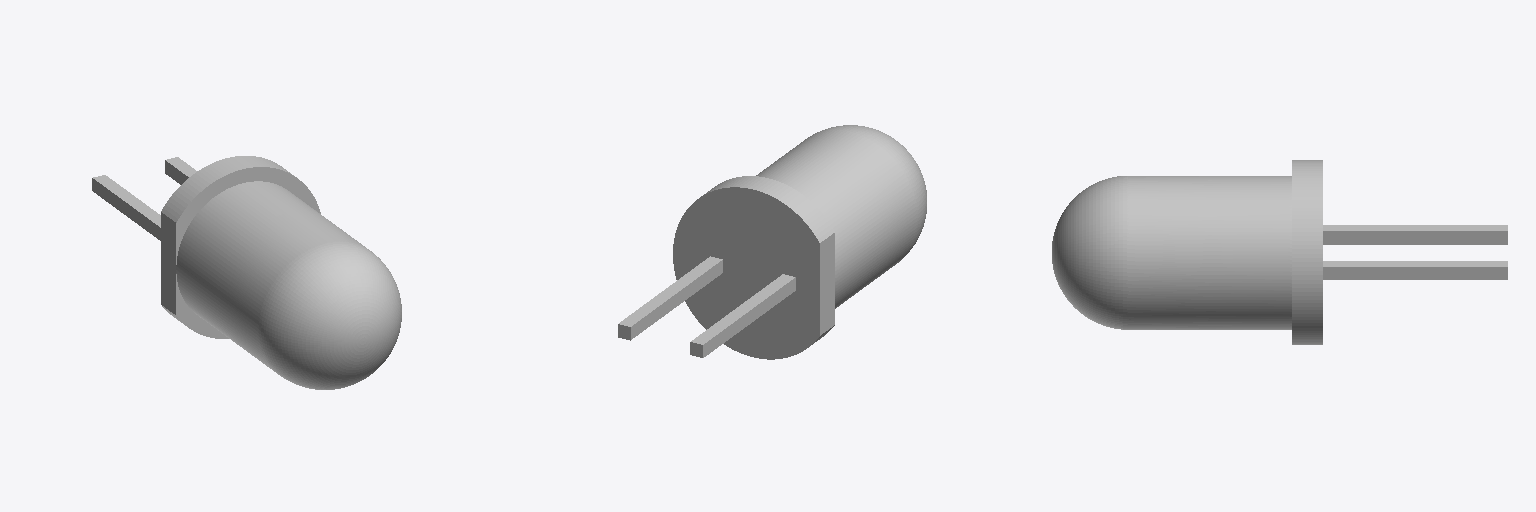
The model's file is LED5MM_SHORT.obj.
The picture shows the model from 3 angles: view 1: azimuth 30°, elevation 25°; view 2: azimuth 150°, elevation 25°; view 3: azimuth 270°, elevation 25°; orthographic projection.
Parts seen in each view (by area): view 1: Solid1; view 2: Solid1; view 3: Solid1.
Part boxes in pixels (x1,y1,x2,y2): Solid1: (92,156,401,389); Solid1: (618,125,926,359); Solid1: (1052,160,1507,344).
Size of the model in its own units: 5.5 by 6 by 14.8.